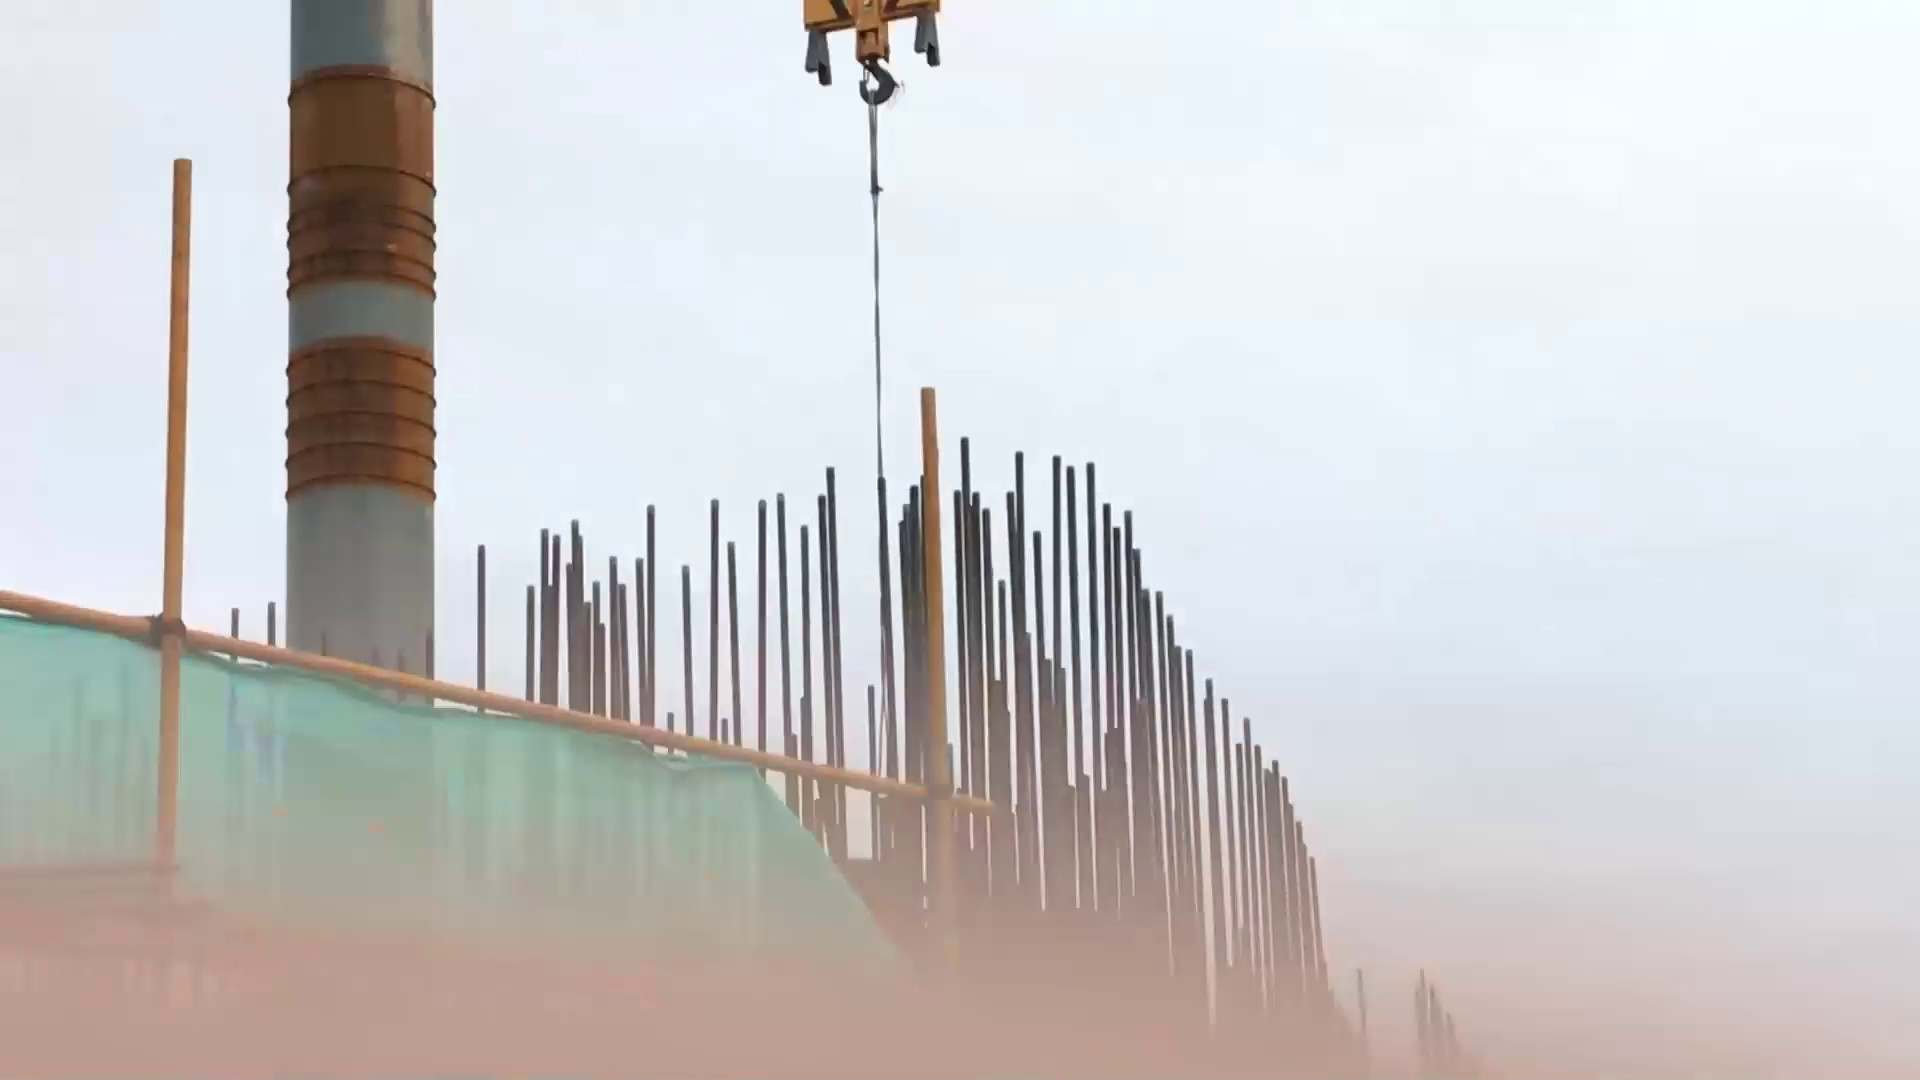hook: (782, 1, 959, 125)
